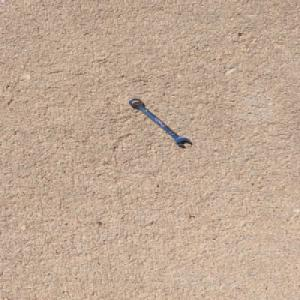Wrench: (127, 97, 193, 147)
